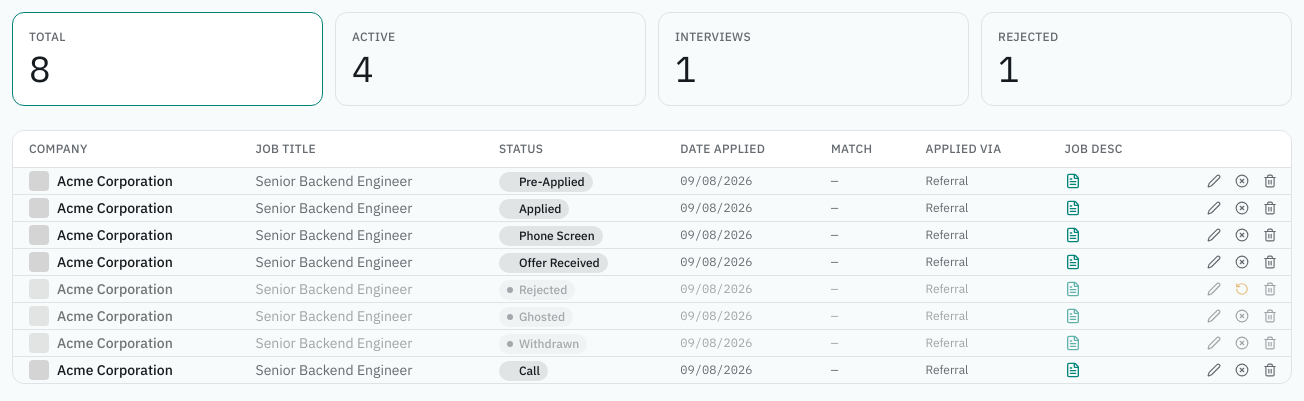
Test case: the Active tile › excludes Pre-Applied from the filtered table too
Click the button "Active 4" at point(374, 36), box [335,12,646,106]
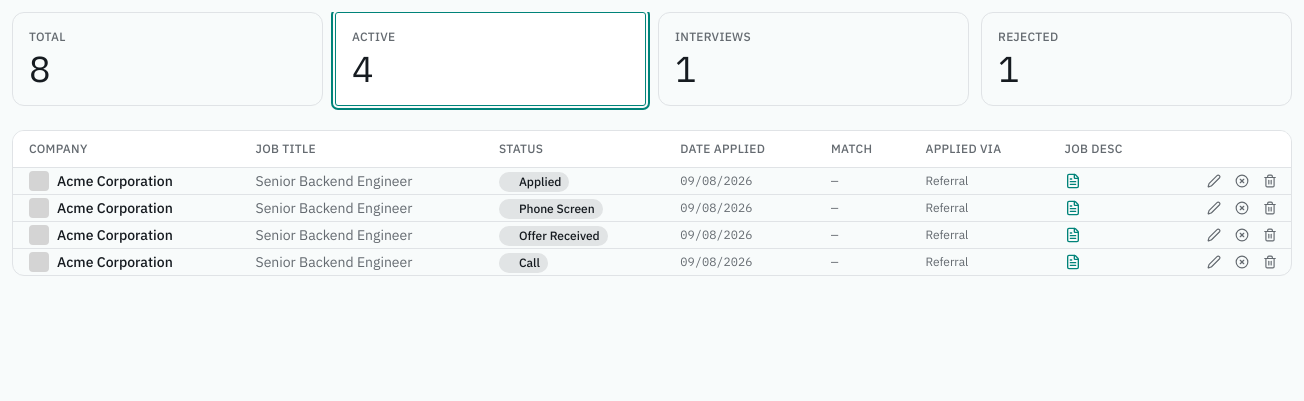
Expected: the text "Pre-Applied" is gone
